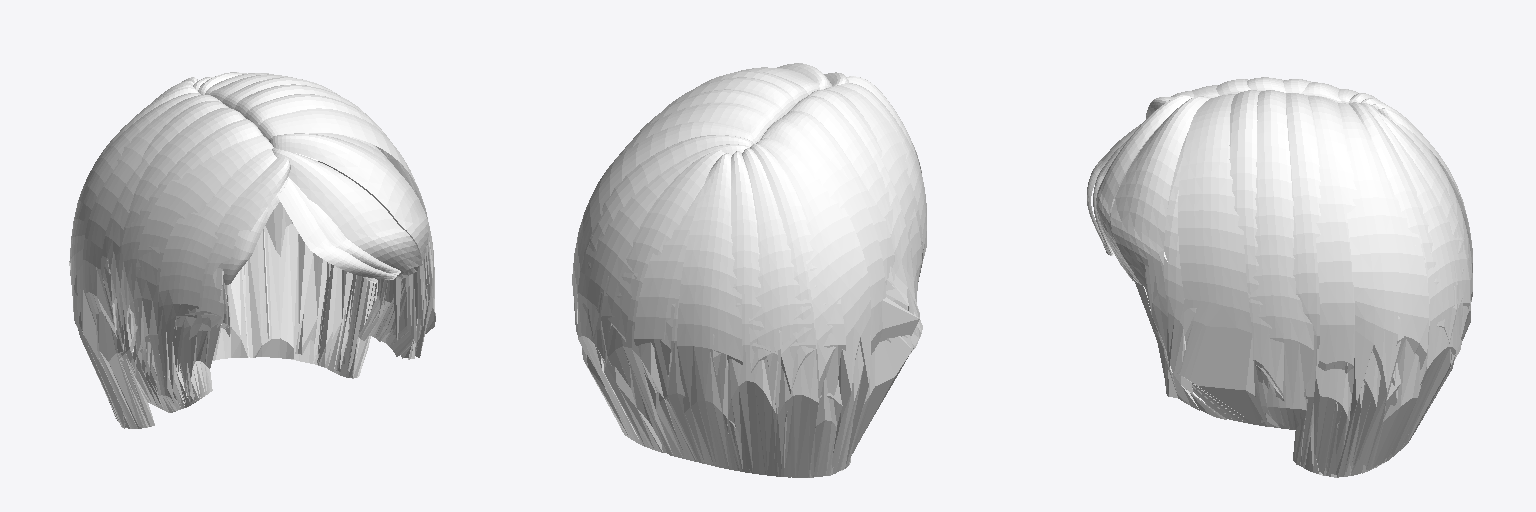
3 views of the same model, side by side, from view 1: azimuth 30°, elevation 25°; view 2: azimuth 150°, elevation 25°; view 3: azimuth 270°, elevation 25° (orthographic).
Visible parts, largest first — view 1: T4_null; view 2: T4_null; view 3: T4_null.
Part boxes in pixels (left/top/right/bottom): T4_null: left=69, top=72, right=435, bottom=428; T4_null: left=572, top=63, right=926, bottom=477; T4_null: left=1087, top=77, right=1472, bottom=477.
Bounding box in the file's own units: 0.0803 × 0.0871 × 0.0915.